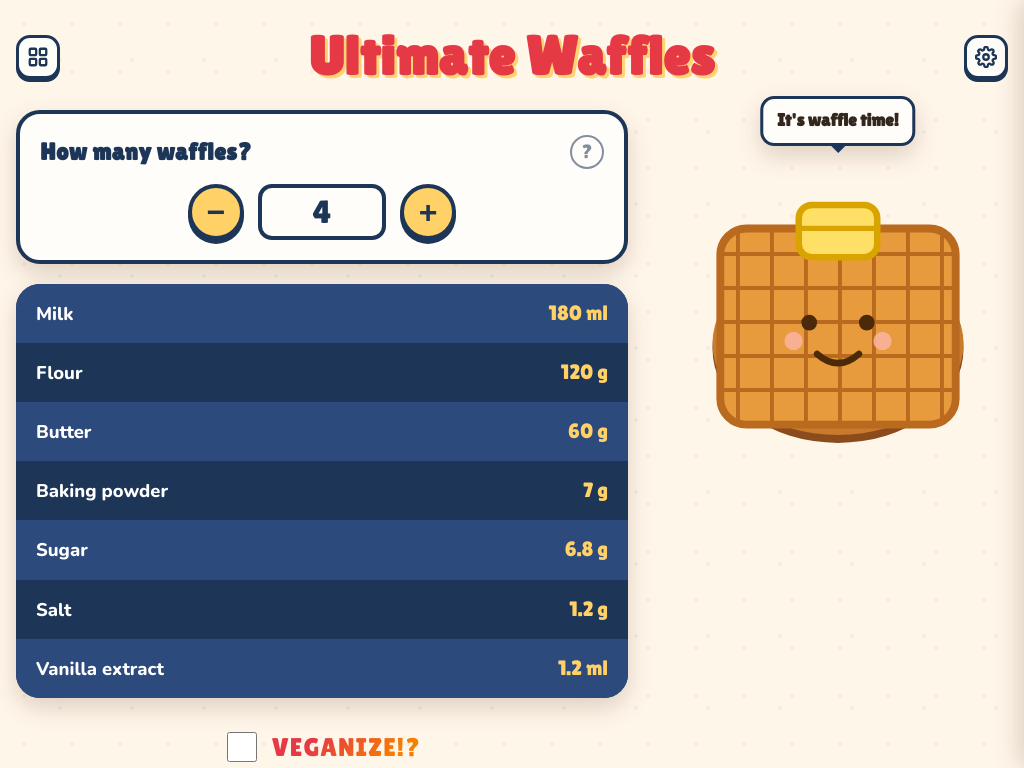
AppShell › waffle recipe (default) › increments the count with the plus control
Click the button named "increase count".
click(428, 212)  # box [400,184,456,240]
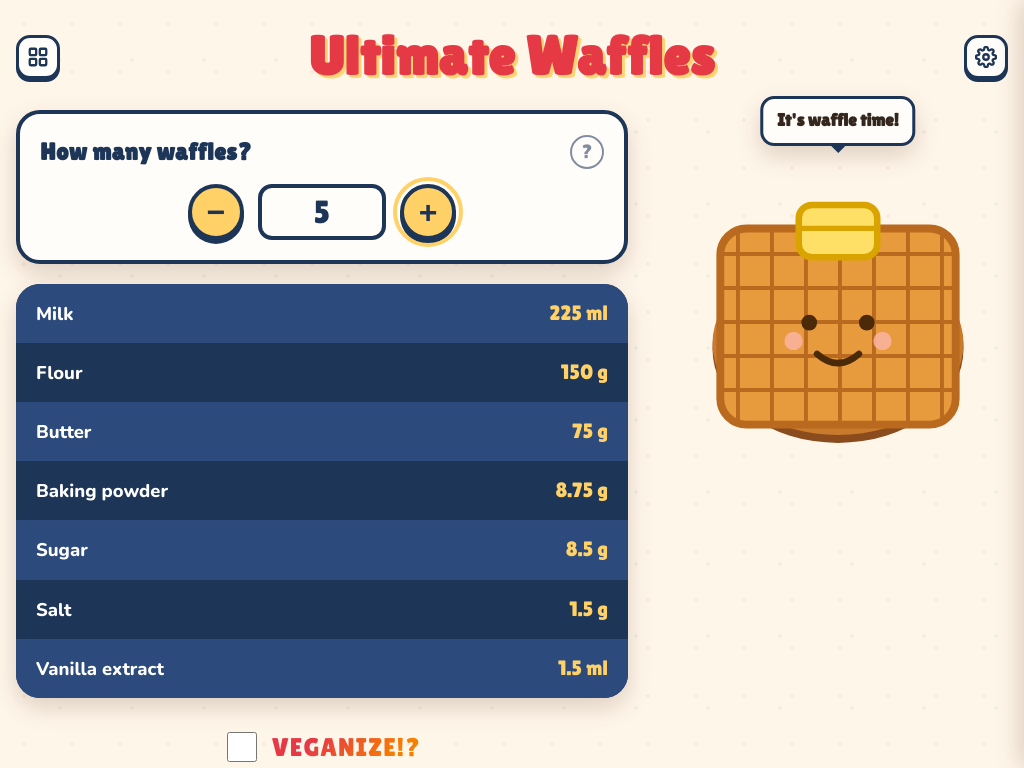
Expected: the number field named "number of waffles" holds "5", [258,184,386,240]
Expected: the text "225 ml" is shown, [549,298,608,329]
